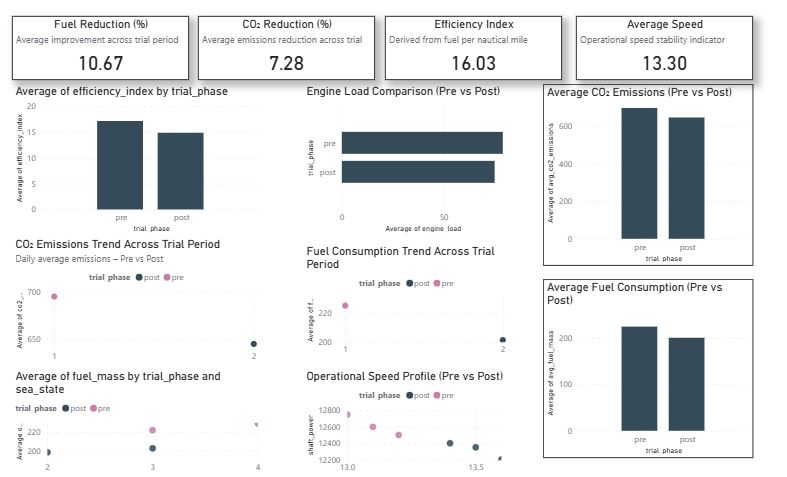

The dashboard page shown, as its layout file describes it:
{"tool":"powerbi","page":{"name":"Dashboard","canvas":[1280,720],"ordinal":3},"visuals":[{"type":"lineChart","title":"CO₂ Emissions Trend Across Trial Period","fields":{"Category":["cleaned_data.timestamp.Variation.Date Hierarchy.Day"],"Y":["Avg(cleaned_data.co2_emissions)"],"Series":["cleaned_data.trial_phase"]},"box":[44.1,360,370.3,195.4],"z":0},{"type":"clusteredColumnChart","fields":{"Category":["performance_summary.trial_phase"],"Y":["Avg(performance_summary.efficiency_index)"]},"box":[44.1,136.7,370.3,223.3],"z":1000},{"type":"scatterChart","fields":{"X":["cleaned_data.sea_state"],"Y":["Avg(cleaned_data.fuel_mass)"],"Series":["cleaned_data.trial_phase"]},"box":[44.1,555.4,370.3,163.1],"z":2000},{"type":"lineChart","title":"Fuel Consumption Trend Across Trial Period","fields":{"Y":["Avg(cleaned_data.fuel_mass)"],"Category":["cleaned_data.timestamp.Variation.Date Hierarchy.Day"],"Series":["cleaned_data.trial_phase"]},"box":[471.7,371.8,308.6,173.4],"z":3000},{"type":"clusteredBarChart","title":"Engine Load Comparison (Pre vs Post)","fields":{"Category":["cleaned_data.trial_phase"],"Y":["Avg(cleaned_data.engine_load)"]},"box":[471.7,136.7,308.6,223.3],"z":4000},{"type":"scatterChart","title":"Operational Speed Profile (Pre vs Post)","fields":{"X":["cleaned_data.speed"],"Y":["cleaned_data.shaft_power"],"Series":["cleaned_data.trial_phase"]},"box":[471.7,555.4,308.6,163.1],"z":5000},{"type":"lineClusteredColumnComboChart","title":"Average Fuel Consumption (Pre vs Post)","fields":{"Category":["performance_summary.trial_phase"],"Y":["Avg(performance_summary.avg_fuel_mass)"]},"box":[824.3,423.2,308.6,263],"z":6000},{"type":"lineClusteredColumnComboChart","title":"Average CO₂ Emissions (Pre vs Post)","fields":{"Category":["performance_summary.trial_phase"],"Y":["Avg(performance_summary.avg_co2_emissions)"]},"box":[824.3,136.7,308.6,267.4],"z":7000},{"type":"card","title":"Fuel Reduction (%)","fields":{"Values":["Avg(performance_summary.fuel_reduction_pct)","select"]},"box":[44.2,36.9,259.5,94.4],"z":8000},{"type":"card","title":"CO₂ Reduction (%)","fields":{"Values":["Avg(performance_summary.co2_reduction_pct)"]},"box":[317.1,36.9,259.5,94.4],"z":9000},{"type":"card","title":"Efficiency Index","fields":{"Values":["Avg(performance_summary.efficiency_index)"]},"box":[592.8,36.9,259.5,94.4],"z":10000},{"type":"card","title":"Average Speed","fields":{"Values":["Avg(performance_summary.avg_speed)"]},"box":[873,36.9,259.5,94.4],"z":11000}]}

Visuals, with their boxes on the page's 1280x720 design canvas (x1, y1, x2, y2). These are canvas units, not pixel positions in the 787x477 screenshot, which may show the page scaled, cropped or inside an application window:
"CO₂ Emissions Trend Across Trial Period" lineChart: region(44, 360, 414, 555)
clusteredColumnChart - performance_summary.trial_phase x Avg(performance_summary.efficiency_index): region(44, 137, 414, 360)
scatterChart - cleaned_data.sea_state x Avg(cleaned_data.fuel_mass): region(44, 555, 414, 718)
"Fuel Consumption Trend Across Trial Period" lineChart: region(472, 372, 780, 545)
"Engine Load Comparison (Pre vs Post)" clusteredBarChart: region(472, 137, 780, 360)
"Operational Speed Profile (Pre vs Post)" scatterChart: region(472, 555, 780, 718)
"Average Fuel Consumption (Pre vs Post)" lineClusteredColumnComboChart: region(824, 423, 1133, 686)
"Average CO₂ Emissions (Pre vs Post)" lineClusteredColumnComboChart: region(824, 137, 1133, 404)
"Fuel Reduction (%)" card: region(44, 37, 304, 131)
"CO₂ Reduction (%)" card: region(317, 37, 577, 131)
"Efficiency Index" card: region(593, 37, 852, 131)
"Average Speed" card: region(873, 37, 1132, 131)
